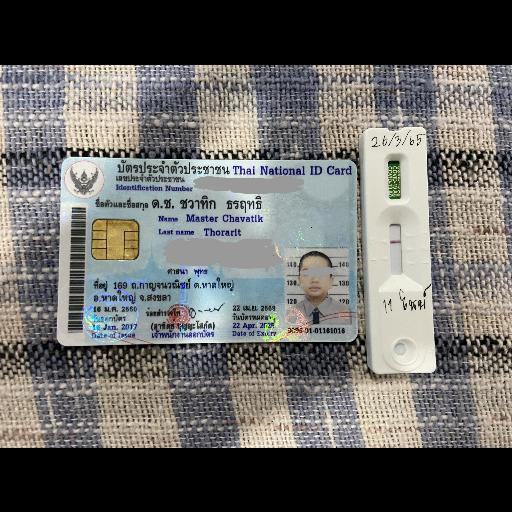Neg: (364, 129, 438, 375)
